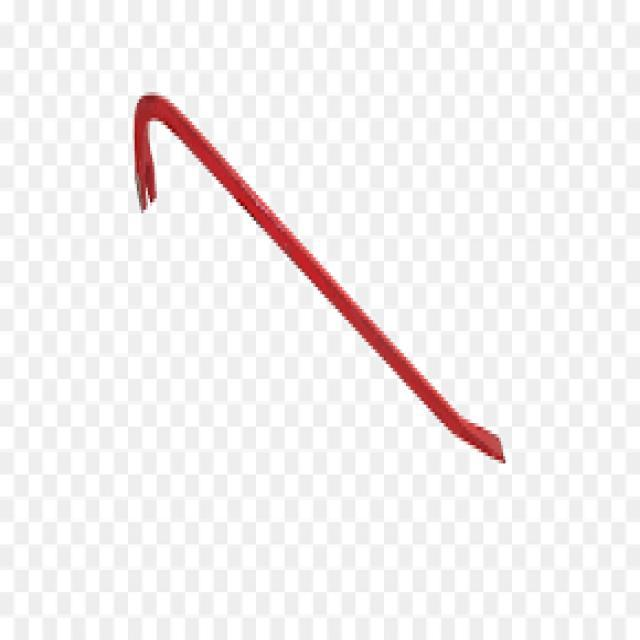Linggis: (123, 84, 510, 476)
